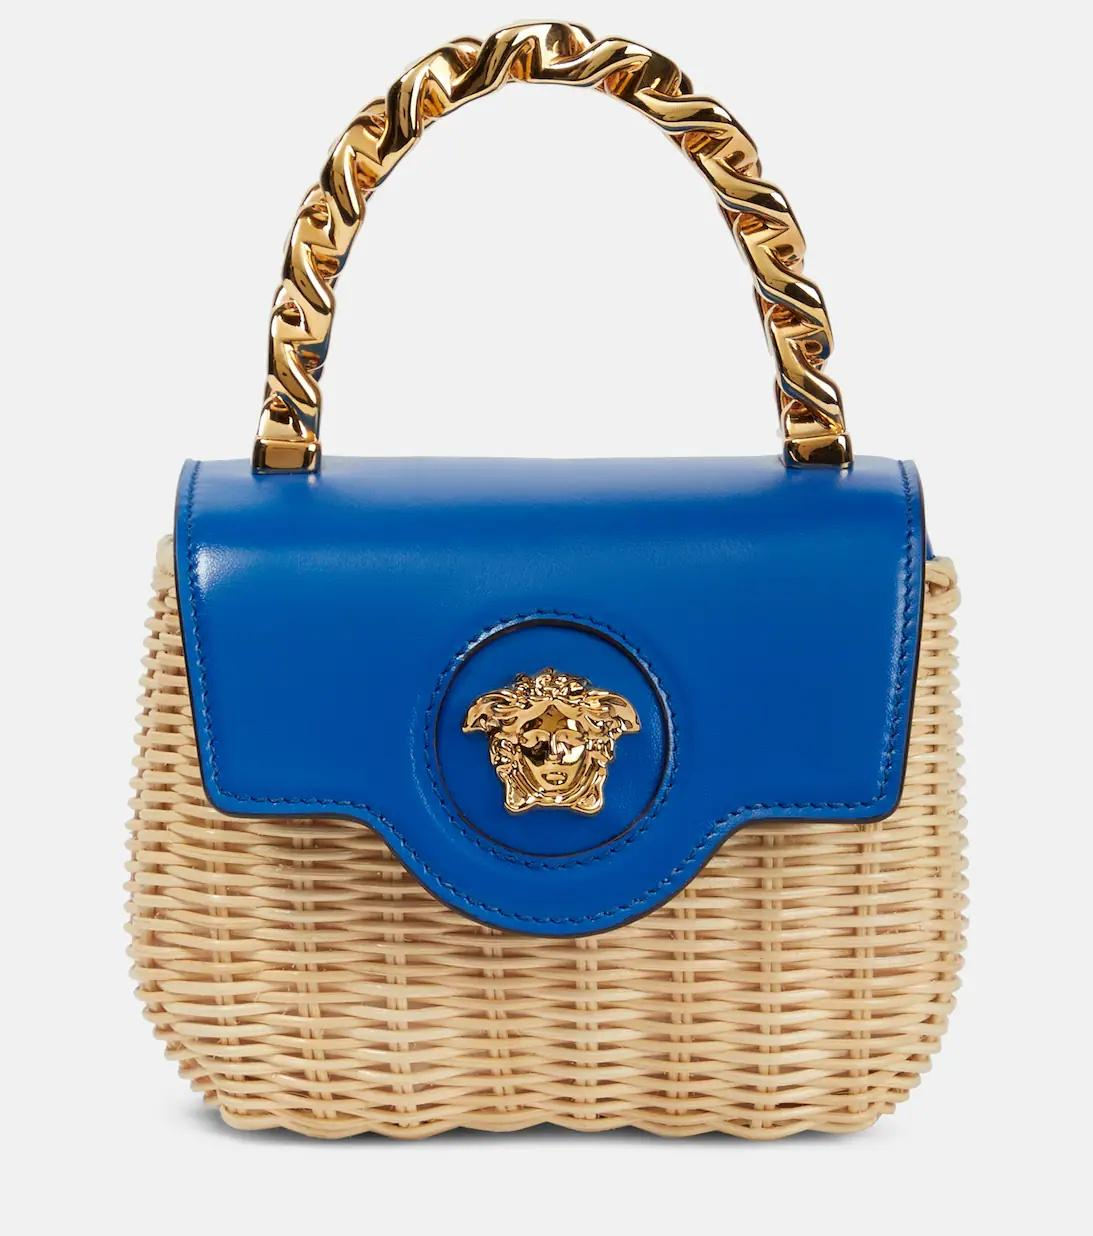VERSACE: (419, 606, 685, 872)
